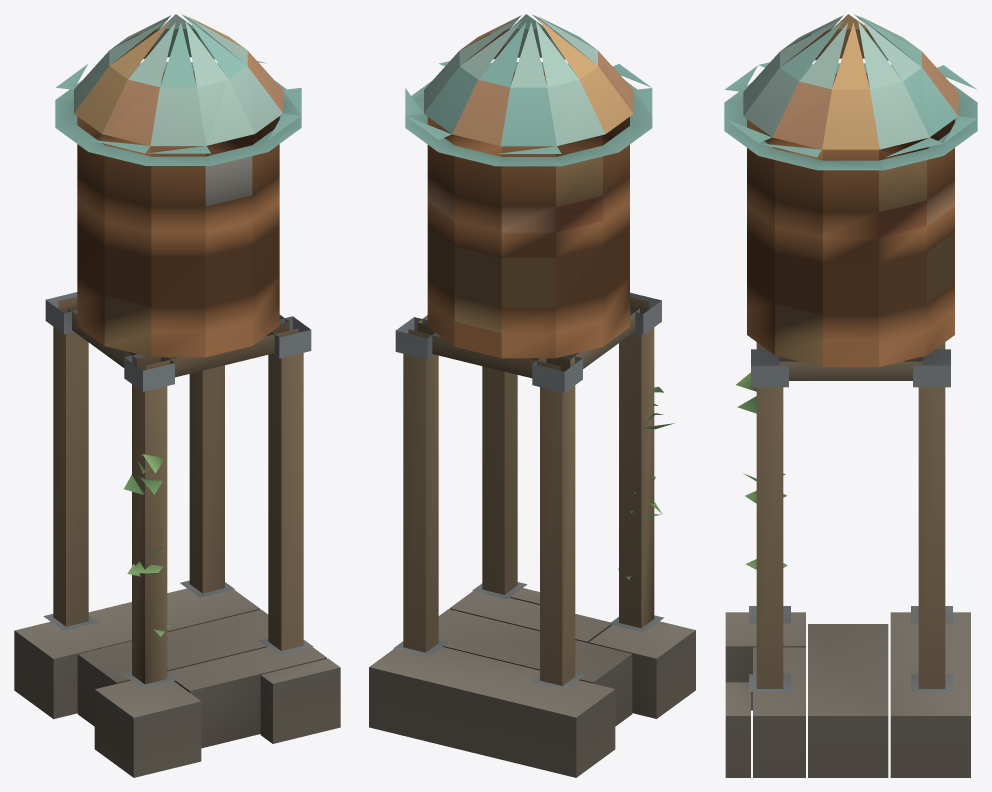
Rendered from water.lod.glb.
3 renders of one model, left to right at view 1: azimuth 30°, elevation 25°; view 2: azimuth 150°, elevation 25°; view 3: azimuth 270°, elevation 25°, orthographic. The views are drawn at different scales.
Visible parts, largest first — view 1: water; view 2: water; view 3: water.
Part boxes in pixels (bbox=[...]): water: bbox=[14, 14, 340, 777]; water: bbox=[369, 14, 695, 777]; water: bbox=[724, 14, 977, 777].
Size of the model in its own units: 4.6 by 14.22 by 4.6.
